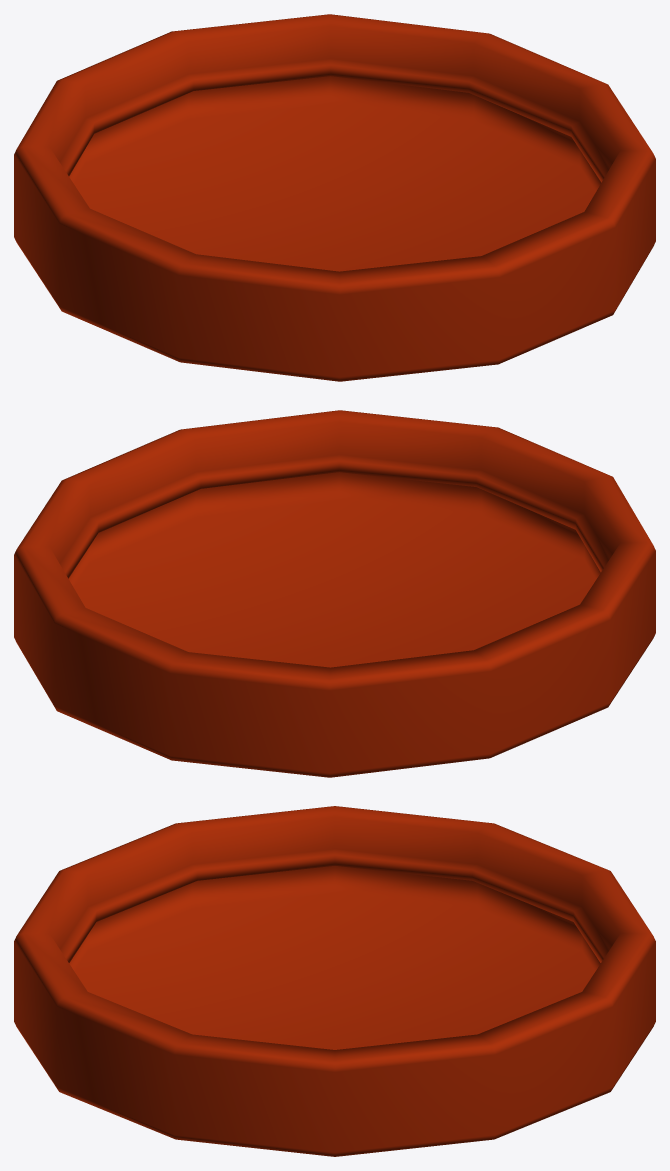
Rendered from SM_Jar Cap.fbx.
3 views of the same model, one above another, from view 1: azimuth 30°, elevation 25°; view 2: azimuth 150°, elevation 25°; view 3: azimuth 270°, elevation 25° (orthographic). The views are drawn at different scales.
Visible parts, largest first — view 1: pasted__pCylinder2; view 2: pasted__pCylinder2; view 3: pasted__pCylinder2.
Part boxes in pixels (bbox=[...]): pasted__pCylinder2: bbox=[14, 14, 655, 381]; pasted__pCylinder2: bbox=[14, 410, 655, 777]; pasted__pCylinder2: bbox=[14, 806, 655, 1156].
Bounding box in the file's own units: 0.2069 × 0.0353 × 0.2143.
